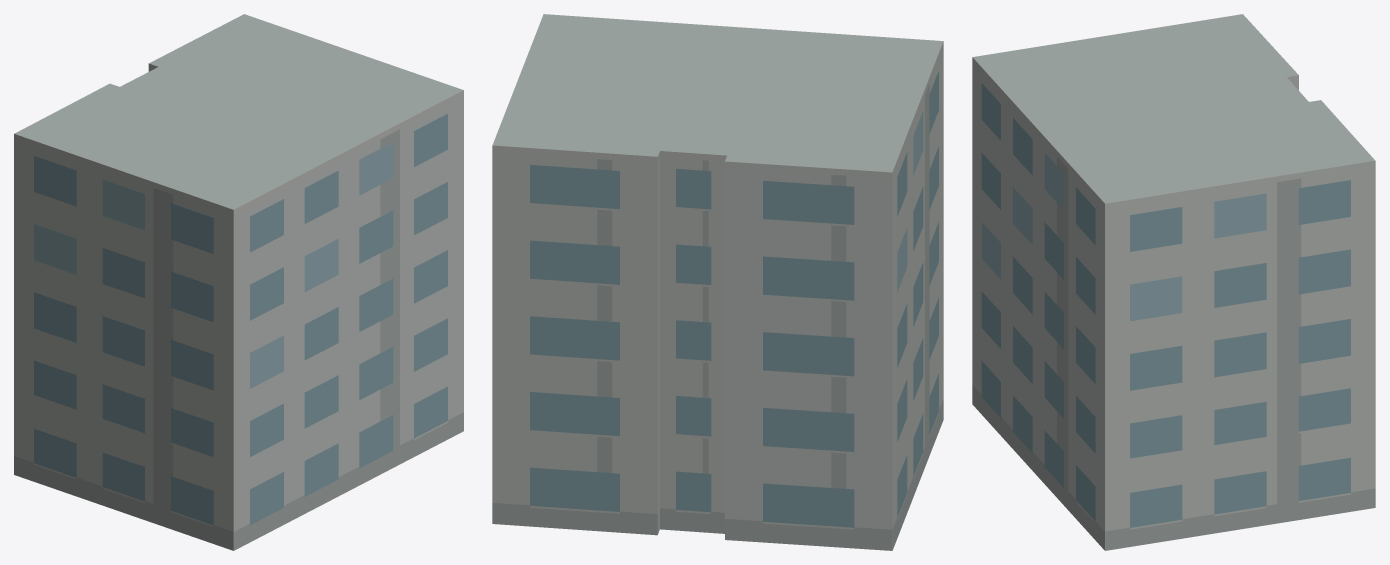
File: survey-upis-32524878.glb
3 renders of one model, left to right at view 1: azimuth 30°, elevation 25°; view 2: azimuth 150°, elevation 25°; view 3: azimuth 270°, elevation 25°, orthographic. The views are drawn at different scales.
Visible parts, largest first — view 1: survey-upis-32524878.tmp; view 2: survey-upis-32524878.tmp; view 3: survey-upis-32524878.tmp.
Boxes of the visible parts, x1,y1,x2,y2 form: survey-upis-32524878.tmp: (14,14,463,550); survey-upis-32524878.tmp: (492,14,943,550); survey-upis-32524878.tmp: (972,14,1375,550).
Size of the model in its own units: 17.01 by 14.5 by 15.27.
